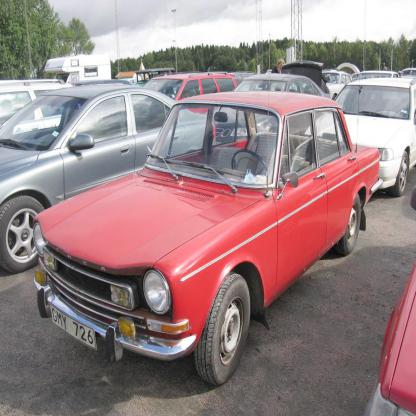Car: (0, 71, 416, 415)
